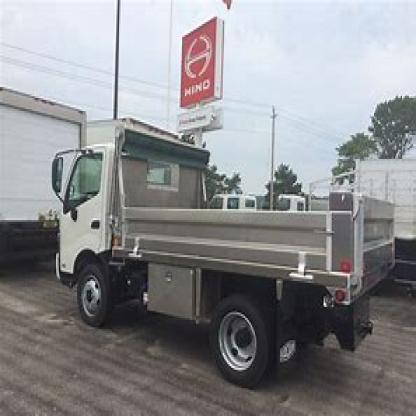dump_truck: (50, 121, 400, 400)
